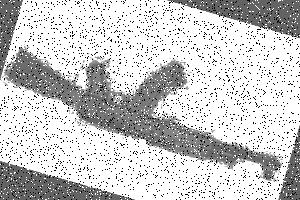rifle: (0, 10, 300, 185)
